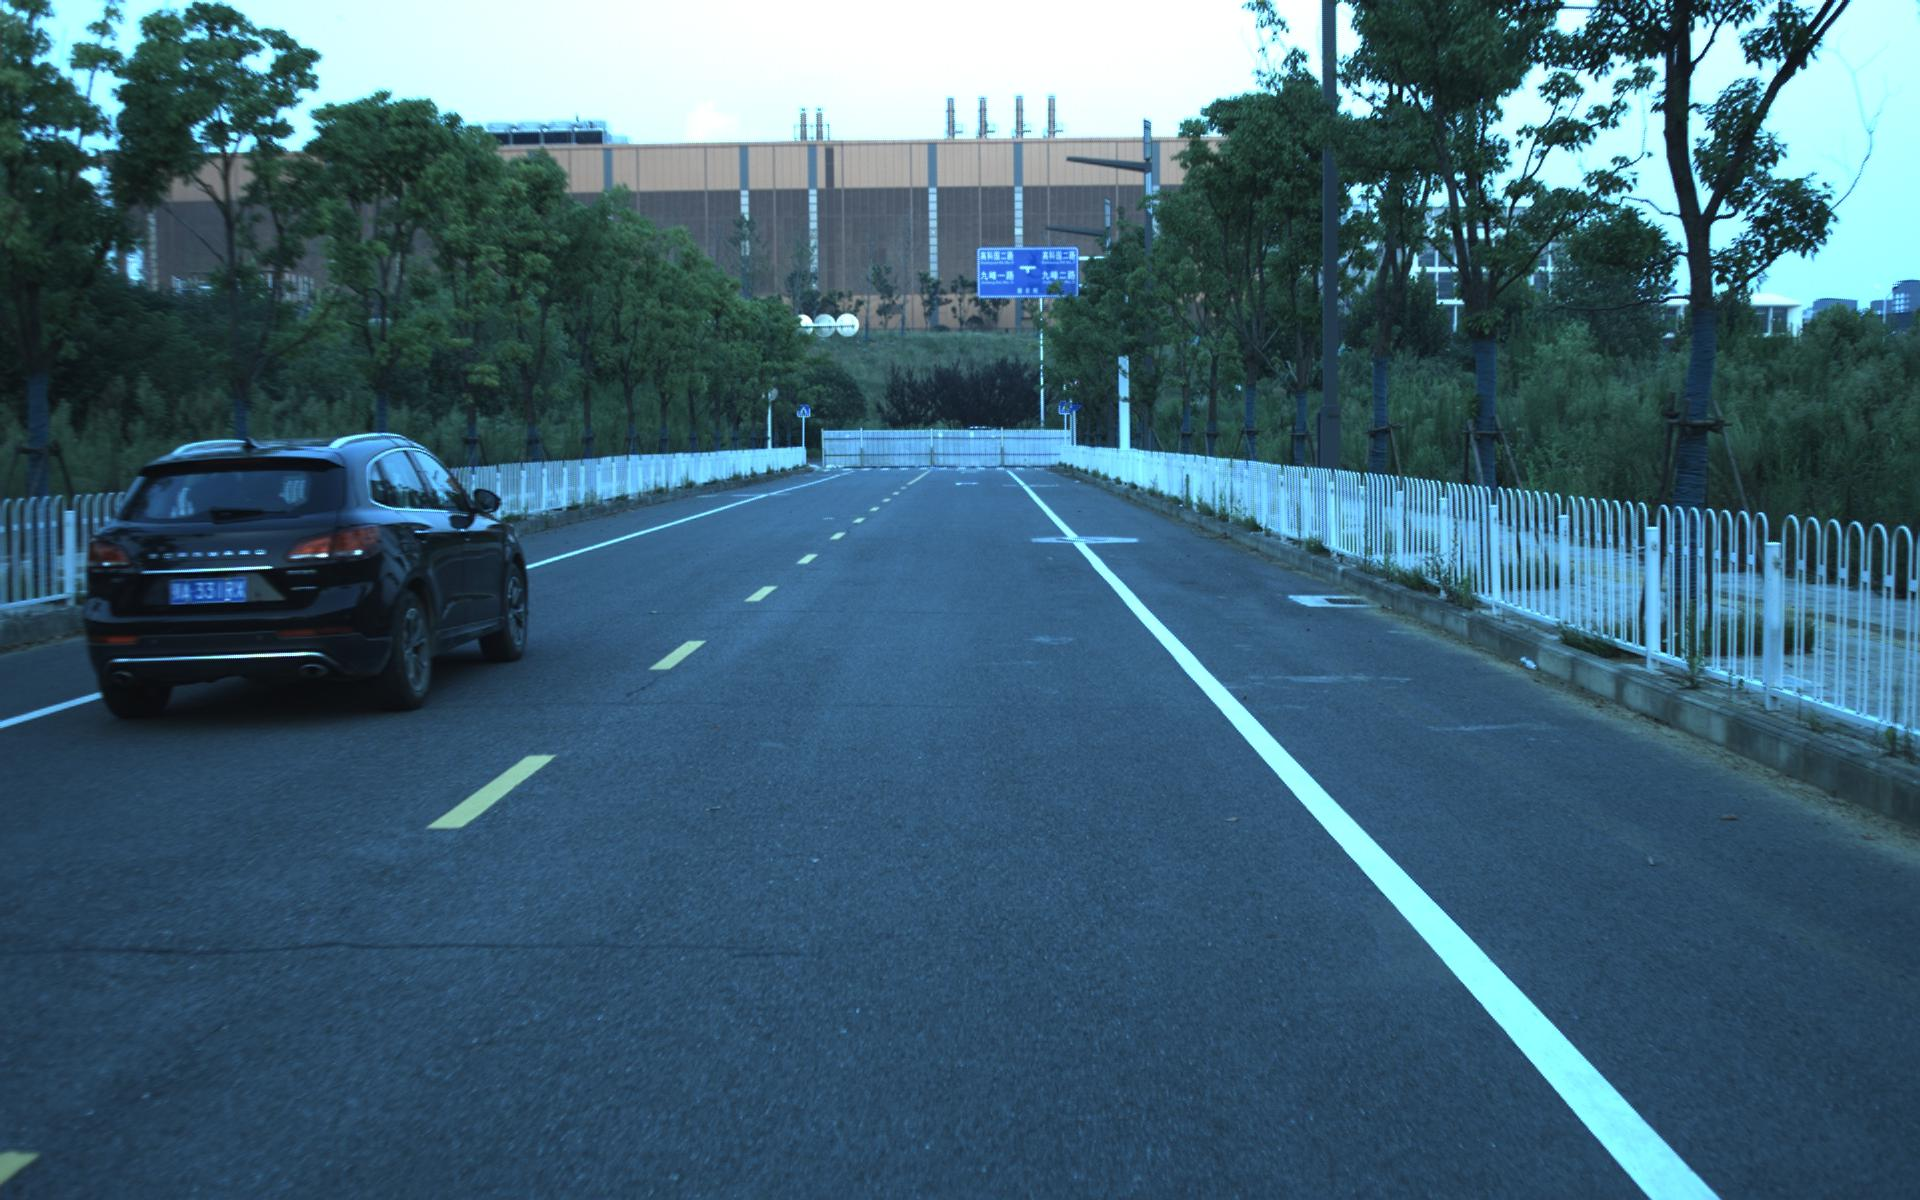Car: (64, 422, 534, 724)
